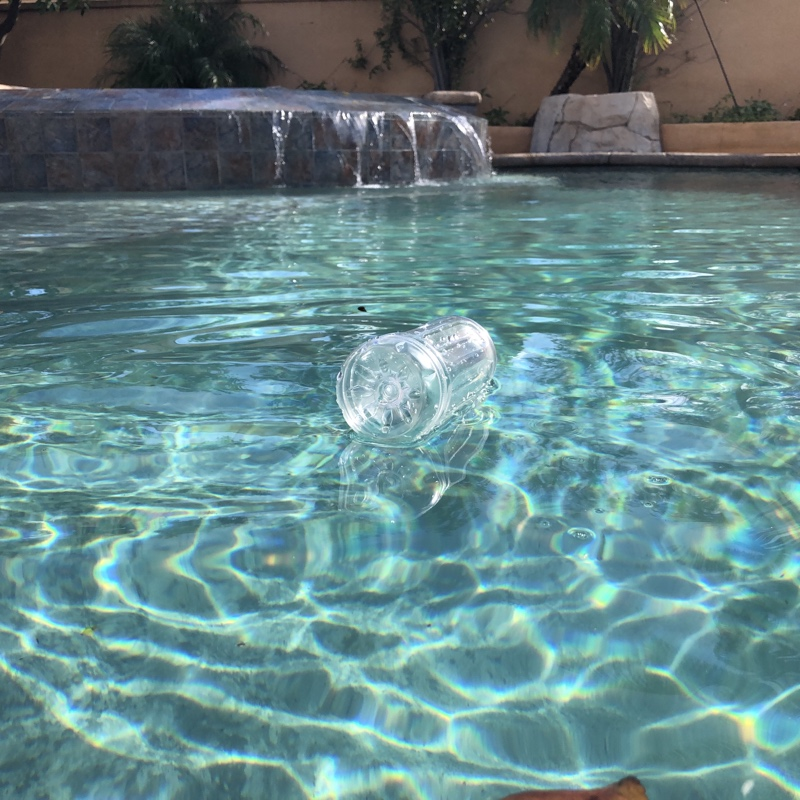Plastic Bottle: (332, 312, 501, 448)
